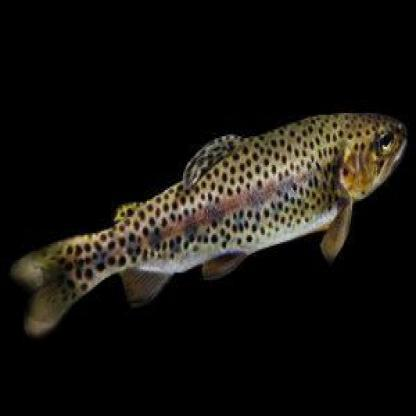fish: (9, 110, 405, 334)
